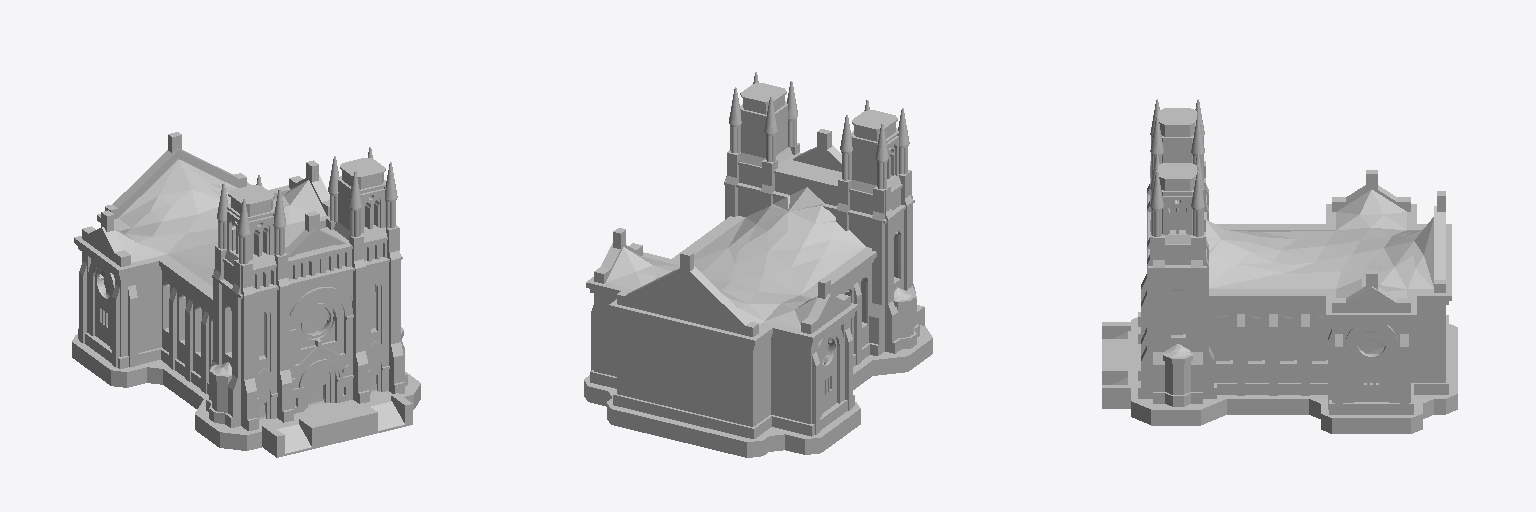
Rendered from Cathedral.obj.
3 renders of one model, left to right at view 1: azimuth 30°, elevation 25°; view 2: azimuth 150°, elevation 25°; view 3: azimuth 270°, elevation 25°, orthographic.
Parts seen in each view (by area): view 1: Cathedral; view 2: Cathedral; view 3: Cathedral.
Part boxes in pixels (x1,y1,x2,y2): Cathedral: (72,132,420,457); Cathedral: (584,72,932,457); Cathedral: (1102,99,1457,433).
Bounding box in the file's own units: 47 × 45.5 × 60.93.